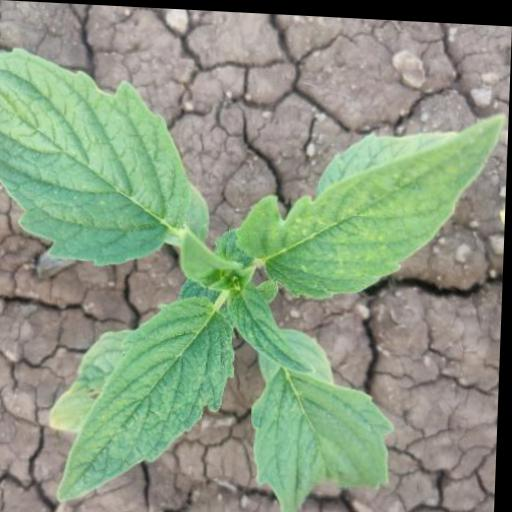crop: (0, 24, 481, 512)
